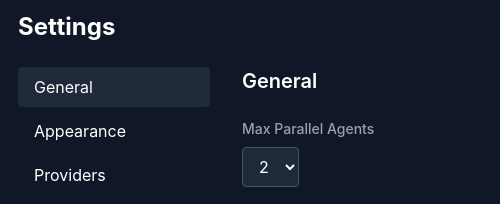
Test: Settings › should render theme selector in Appearance tab
The width and height of the screenshot is (500, 204).
# Click on the Appearance tab
What coordinates should you click on to do the following:
click the tab "Appearance"
I would click on:
 (114, 131)
Its box is [18, 111, 210, 151].
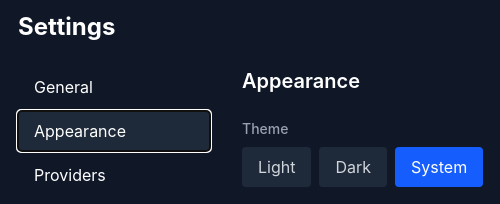
Expected: the text "Theme" is shown, [242, 120, 288, 137]
